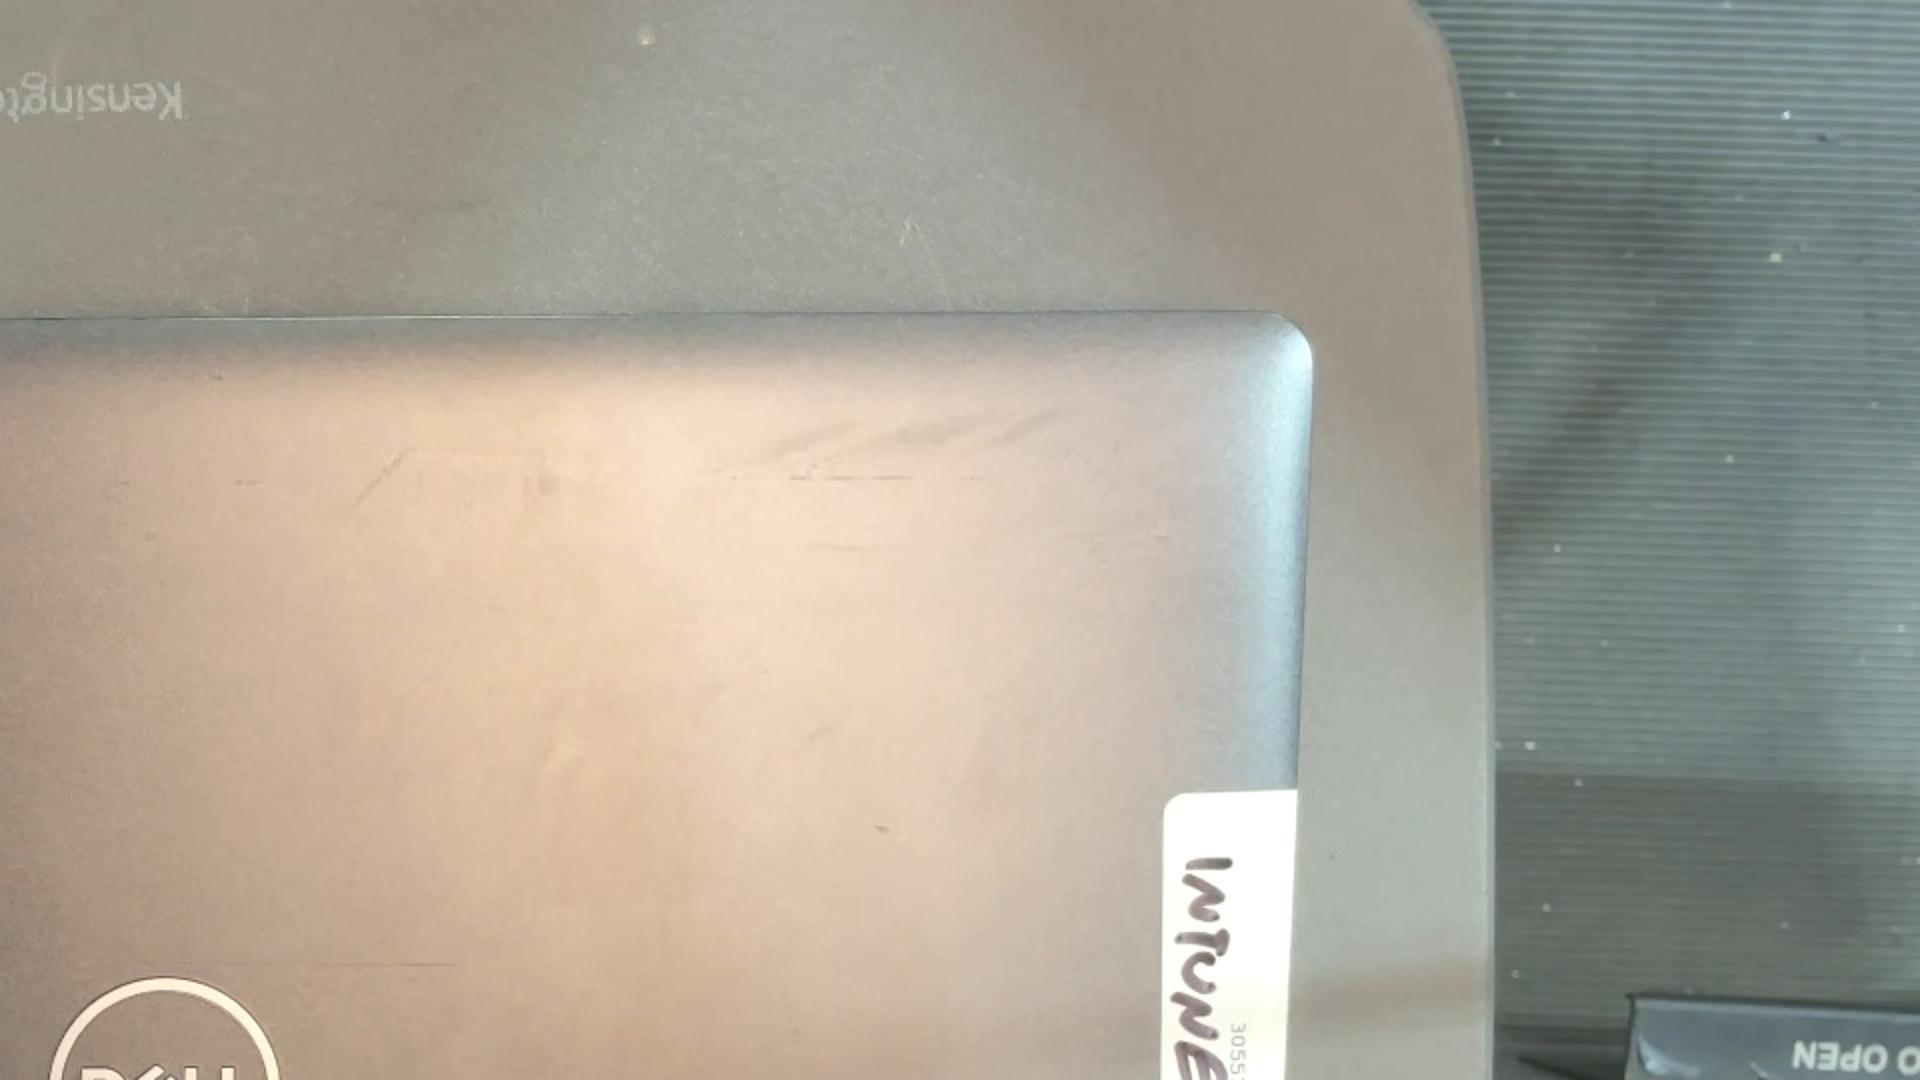scratches: (175, 960, 459, 967), (783, 472, 916, 483)
